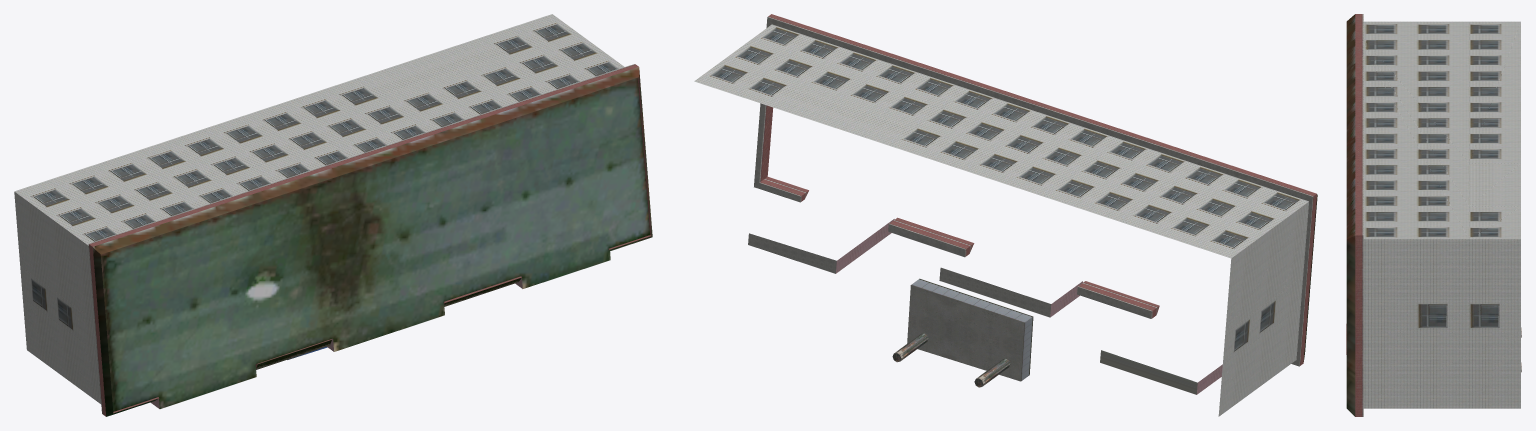
The picture shows the model from 3 angles, left to right: view 1: azimuth 30°, elevation 25°; view 2: azimuth 150°, elevation 25°; view 3: azimuth 270°, elevation 25°; orthographic projection.
Visible parts, largest first — view 1: Group_MatrixTransform_i95011_Geometry_14, Group_MatrixTransform_i95011_Geometry_11, Group_MatrixTransform_i95011_Geometry_12, Group_MatrixTransform_i95011_Geometry_17, Group_MatrixTransform_i95011_Geometry_8, Group_MatrixTransform_i95011_Geometry_0, Group_MatrixTransform_i95011_Geometry_2; view 2: Group_MatrixTransform_i95011_Geometry_11, Group_MatrixTransform_i95011_Geometry_13, Group_MatrixTransform_i95011_Geometry_12, Group_MatrixTransform_i95011_Geometry_8, Group_MatrixTransform_i95011_Geometry_0, Group_MatrixTransform_i95011_Geometry_2, Group_MatrixTransform_i95011_Geometry_7, Group_MatrixTransform_i95011_Geometry_9, Group_MatrixTransform_i95011_Geometry_19, Group_MatrixTransform_i95011_Geometry_1; view 3: Group_MatrixTransform_i95011_Geometry_11, Group_MatrixTransform_i95011_Geometry_12, Group_MatrixTransform_i95011_Geometry_2, Group_MatrixTransform_i95011_Geometry_17, Group_MatrixTransform_i95011_Geometry_8, Group_MatrixTransform_i95011_Geometry_0.
Boxes of the visible parts, x1,y1,x2,y2 form: Group_MatrixTransform_i95011_Geometry_14: (100,78,650,411); Group_MatrixTransform_i95011_Geometry_11: (14,14,624,245); Group_MatrixTransform_i95011_Geometry_12: (14,192,101,404); Group_MatrixTransform_i95011_Geometry_17: (92,67,652,416); Group_MatrixTransform_i95011_Geometry_8: (88,64,651,416); Group_MatrixTransform_i95011_Geometry_0: (364,40,496,94); Group_MatrixTransform_i95011_Geometry_2: (20,266,80,339); Group_MatrixTransform_i95011_Geometry_11: (694,24,1308,258); Group_MatrixTransform_i95011_Geometry_13: (748,17,1312,381); Group_MatrixTransform_i95011_Geometry_12: (1218,202,1308,416); Group_MatrixTransform_i95011_Geometry_8: (759,14,1316,366); Group_MatrixTransform_i95011_Geometry_0: (775,89,906,143); Group_MatrixTransform_i95011_Geometry_2: (1223,291,1282,364); Group_MatrixTransform_i95011_Geometry_7: (911,278,1033,381); Group_MatrixTransform_i95011_Geometry_9: (836,219,1222,394); Group_MatrixTransform_i95011_Geometry_19: (1100,350,1197,394); Group_MatrixTransform_i95011_Geometry_1: (892,333,1010,387); Group_MatrixTransform_i95011_Geometry_11: (1363,21,1520,239); Group_MatrixTransform_i95011_Geometry_12: (1363,239,1520,408); Group_MatrixTransform_i95011_Geometry_2: (1404,299,1520,332); Group_MatrixTransform_i95011_Geometry_17: (1346,14,1355,416); Group_MatrixTransform_i95011_Geometry_8: (1346,14,1363,416); Group_MatrixTransform_i95011_Geometry_0: (1469,163,1520,206).
Size of the model in its own units: 39.78 by 17.18 by 10.73.
Materials: 20 (20 with a texture image).
